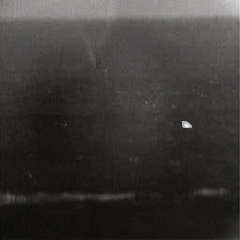Target: (181, 120, 193, 129)
